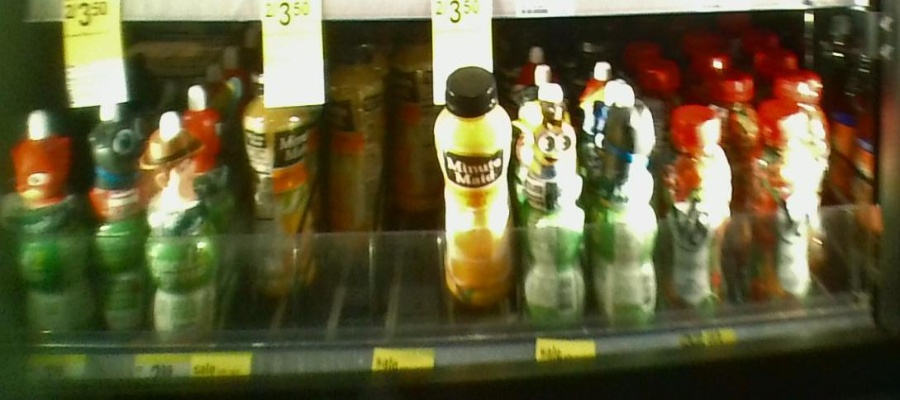bottle: (9, 104, 85, 346), (146, 107, 221, 348), (588, 82, 660, 327), (440, 62, 512, 304), (240, 68, 317, 294), (519, 78, 585, 333), (660, 97, 736, 317), (744, 96, 810, 307), (321, 34, 388, 238), (89, 118, 145, 351), (393, 26, 440, 218)
